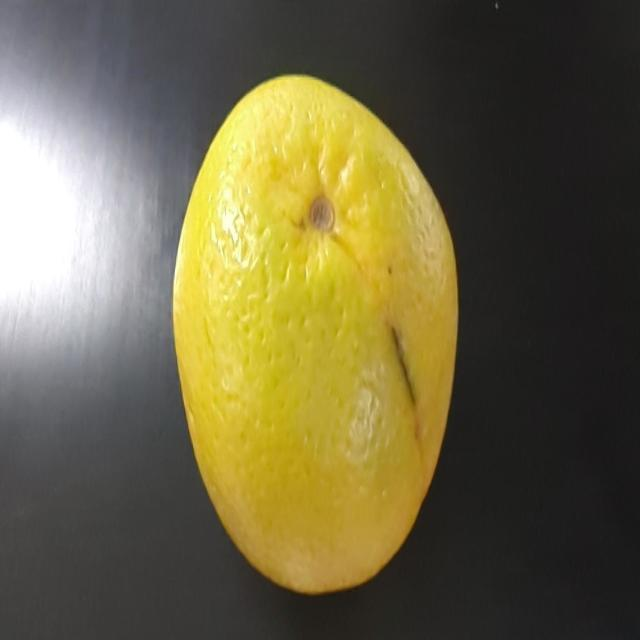Jeruk: (188, 44, 478, 622)
